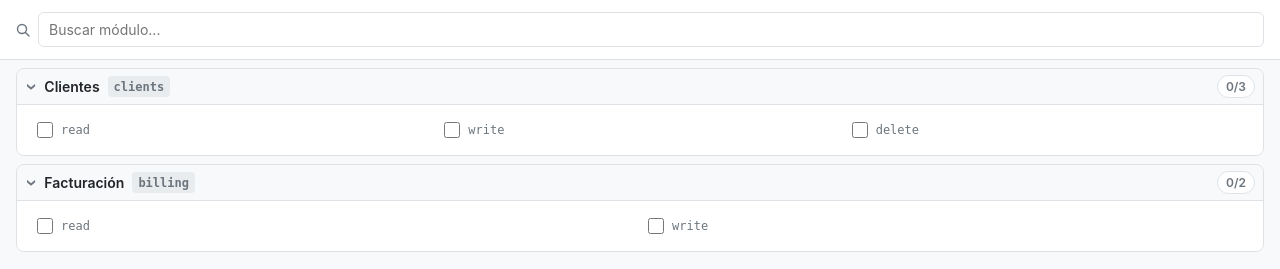
Test case: PermissionMatrix — collapsible modules › clicking module header collapses the module
Click the button "› Clientes clients".
click(72, 86)  # box [29,76,1106,97]
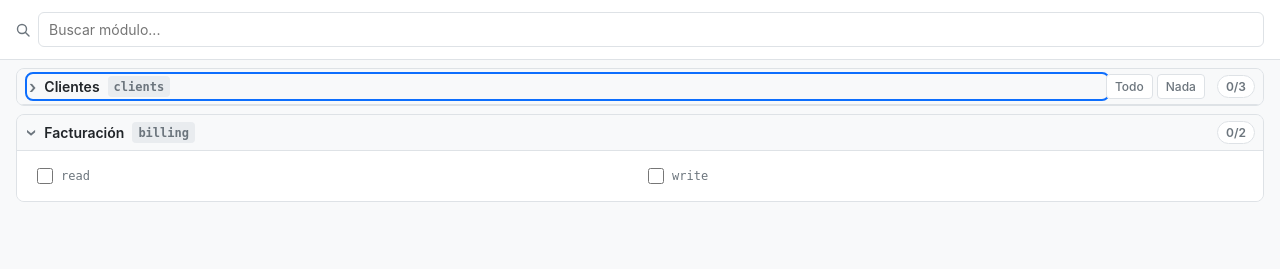
Now the number of checkboxes is 2, box [37,168,53,184]; [648,168,664,184]
